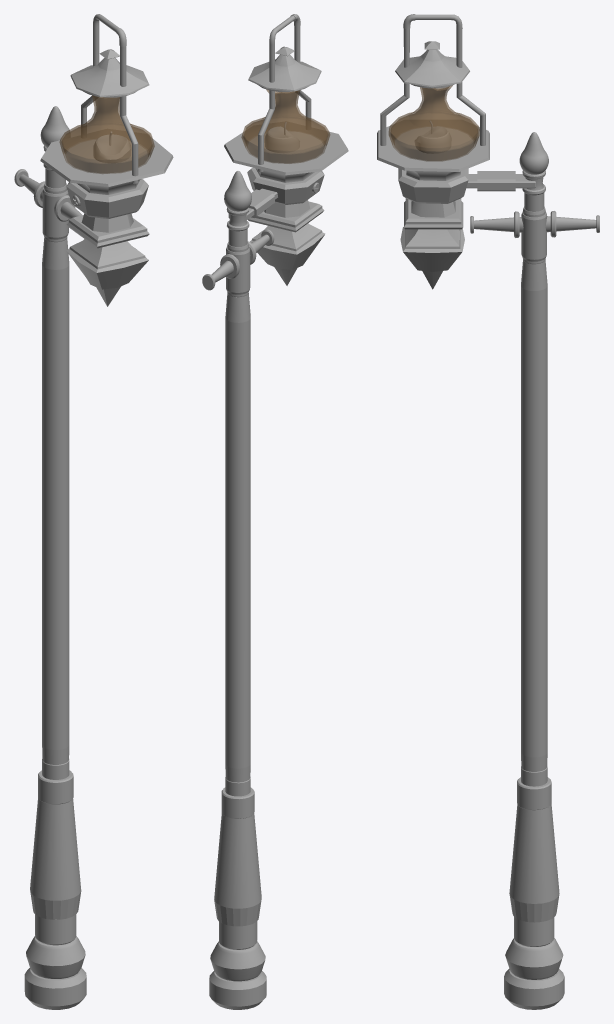
File: SM_Lampadaire_3.fbx
3 renders of one model, left to right at view 1: azimuth 30°, elevation 25°; view 2: azimuth 150°, elevation 25°; view 3: azimuth 270°, elevation 25°, orthographic. The views are drawn at different scales.
Parts seen in each view (by area): view 1: polySurface329; view 2: polySurface329; view 3: polySurface329.
Part boxes in pixels (x1=…): polySurface329: x1=14, y1=14, x2=173, y2=1009; polySurface329: x1=202, y1=14, x2=348, y2=1009; polySurface329: x1=377, y1=14, x2=599, y2=1009.
Bounding box in the file's own units: 46.78 × 427 × 87.41.
